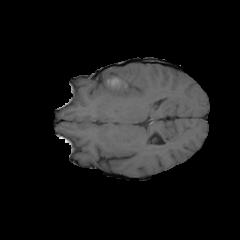glioma: (102, 69, 143, 120)
